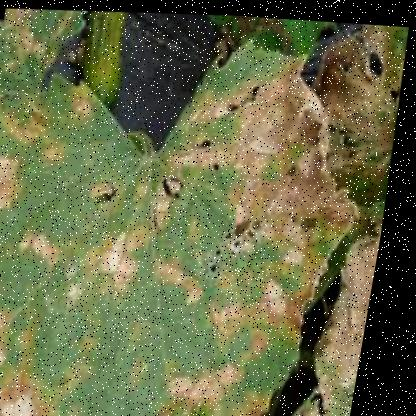Anthracnose: (162, 63, 380, 308), (0, 95, 184, 307), (93, 311, 308, 415), (0, 250, 118, 415)
